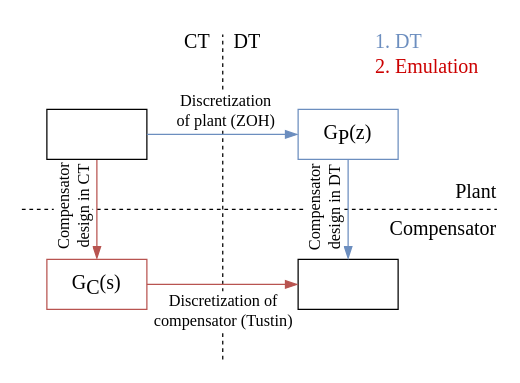
Image size: 520x383. Some labels were removed from this diagram. Here are the shapes that lost their labels. From the top down, the centre of each, then its label:
At (96,133): "G P (s)".
At (347,283): "G C (z)".
